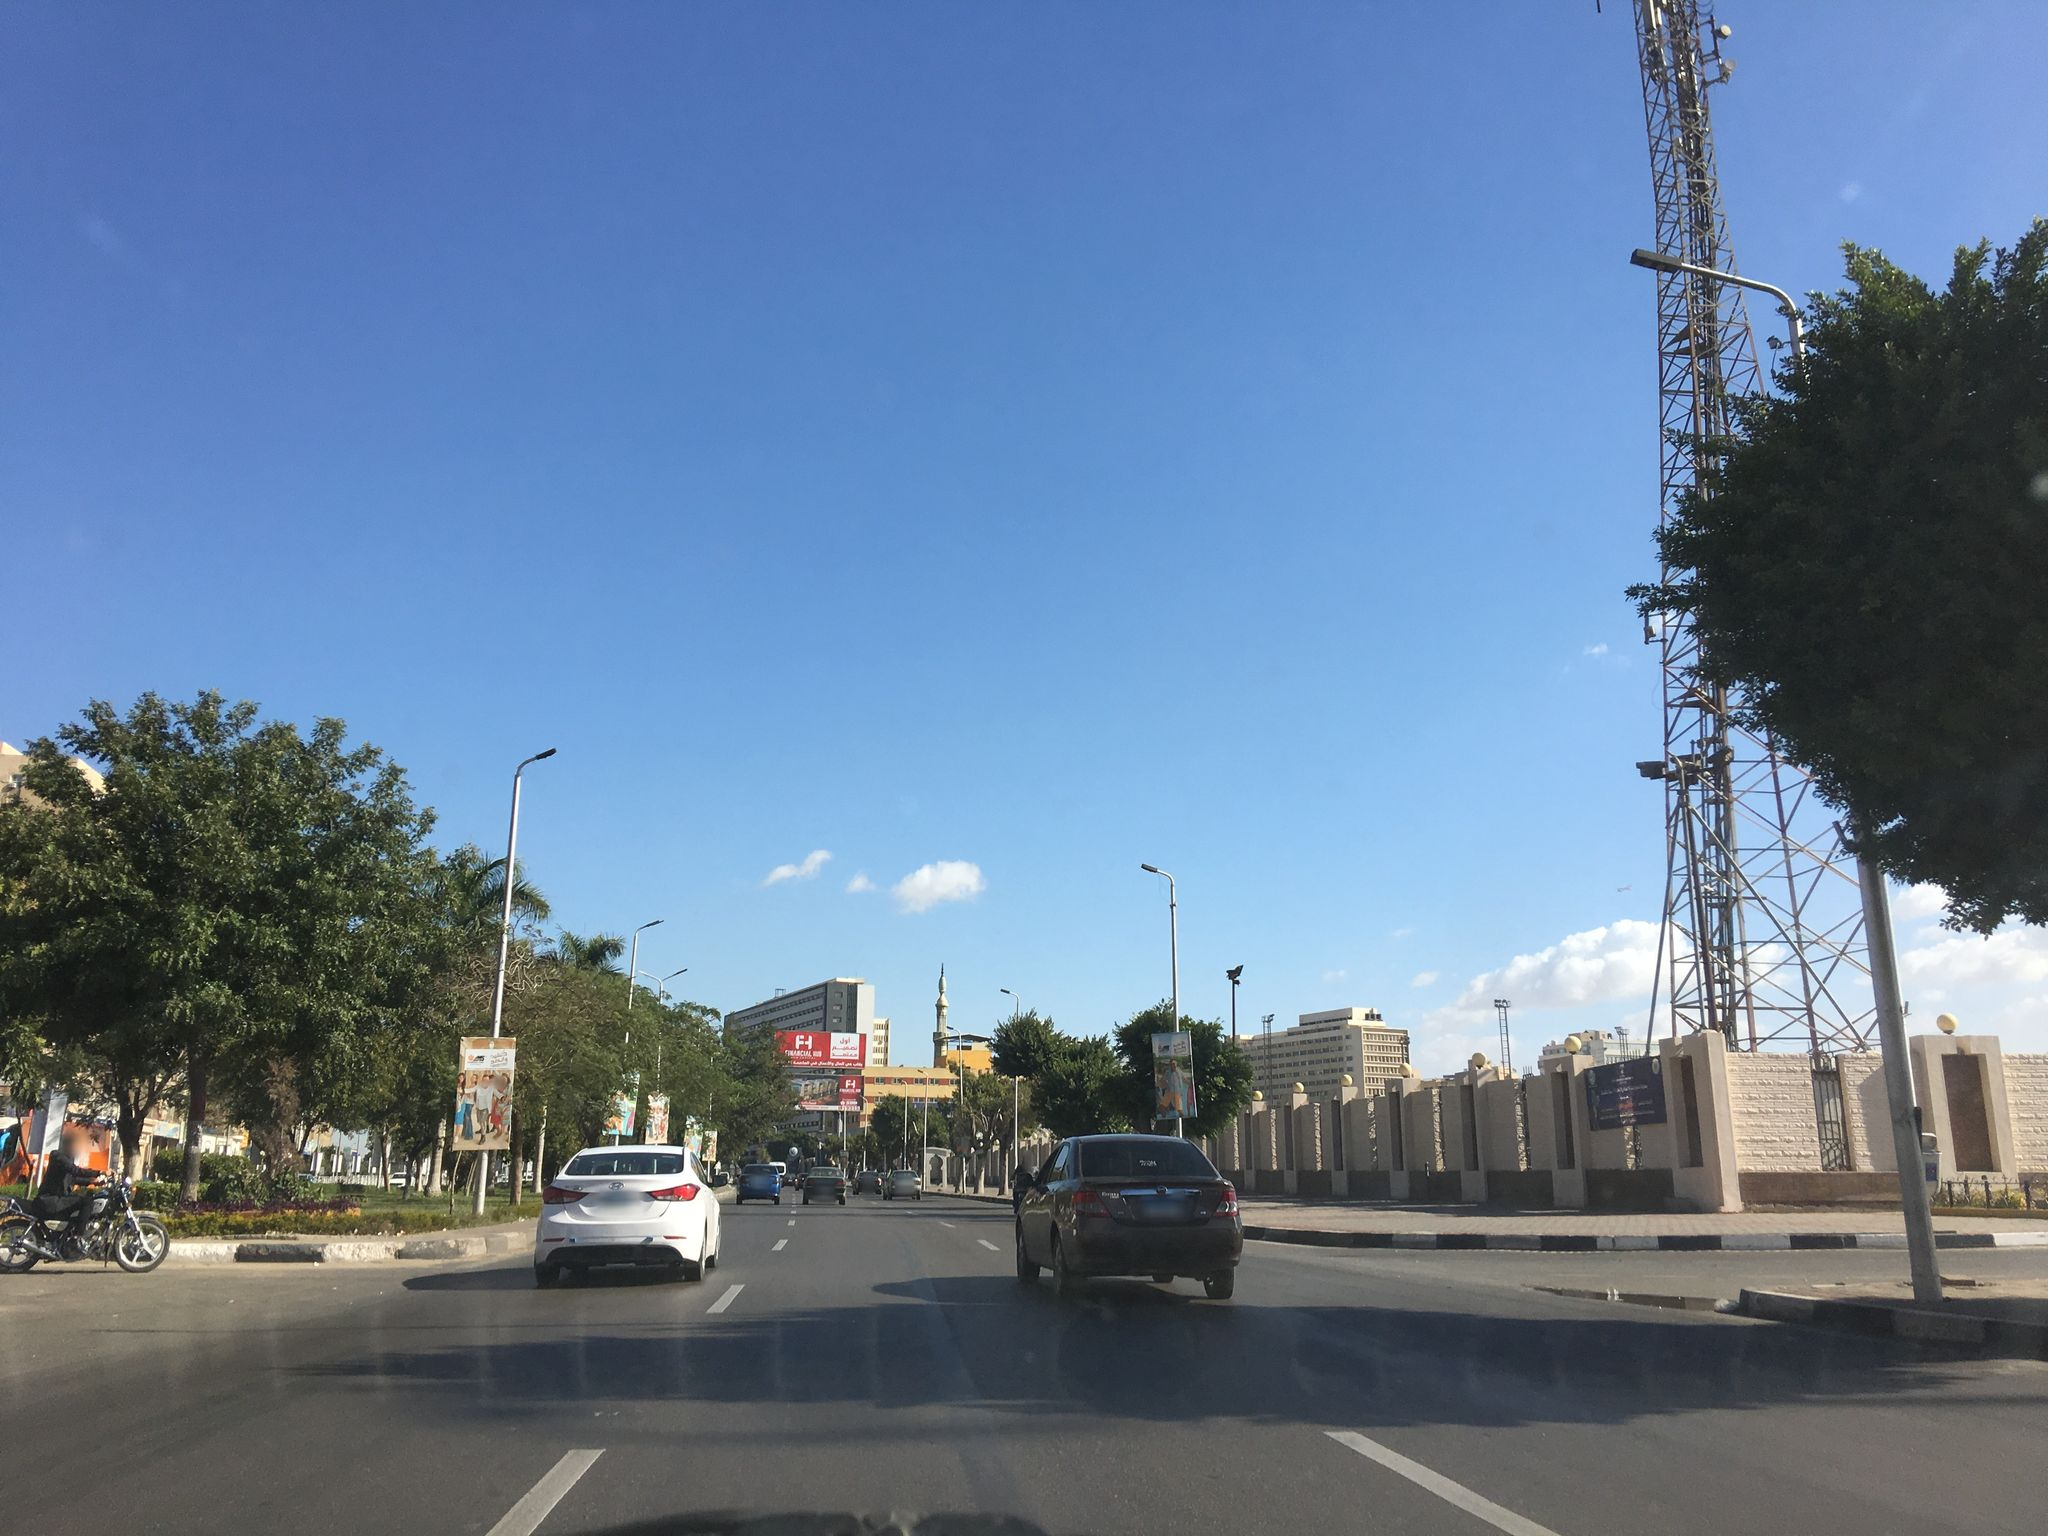car: (1009, 1131, 1247, 1297), (531, 1146, 722, 1279), (735, 1162, 780, 1204), (801, 1167, 847, 1205), (880, 1170, 922, 1200), (850, 1170, 882, 1196)
motorcycle: (0, 1170, 173, 1276)
